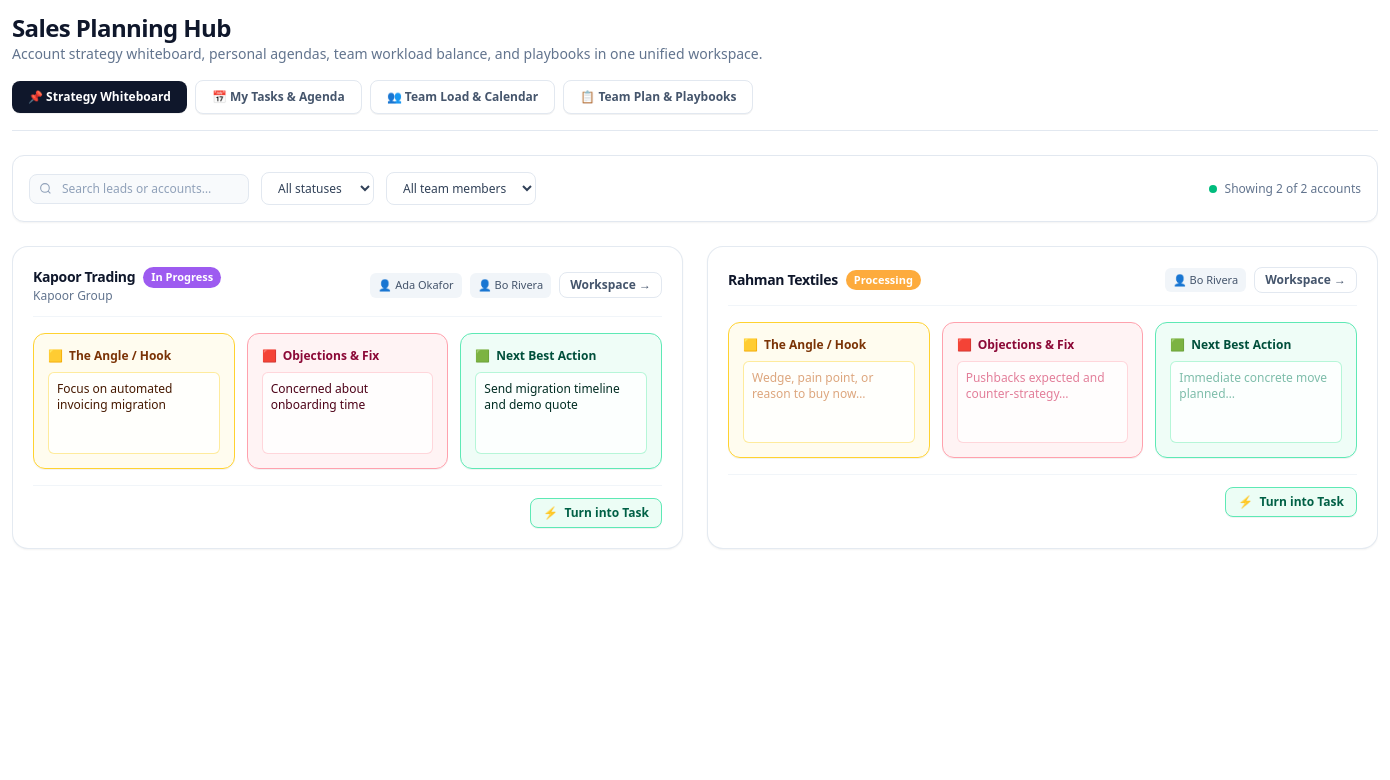
Test: TeamPlanningPage › switches to the activity heatmap and shows a rep’s row
The image size is (1390, 780).
Click the tab "👥 Team Load & Calendar" at (462, 97), box [370,80,555,114]
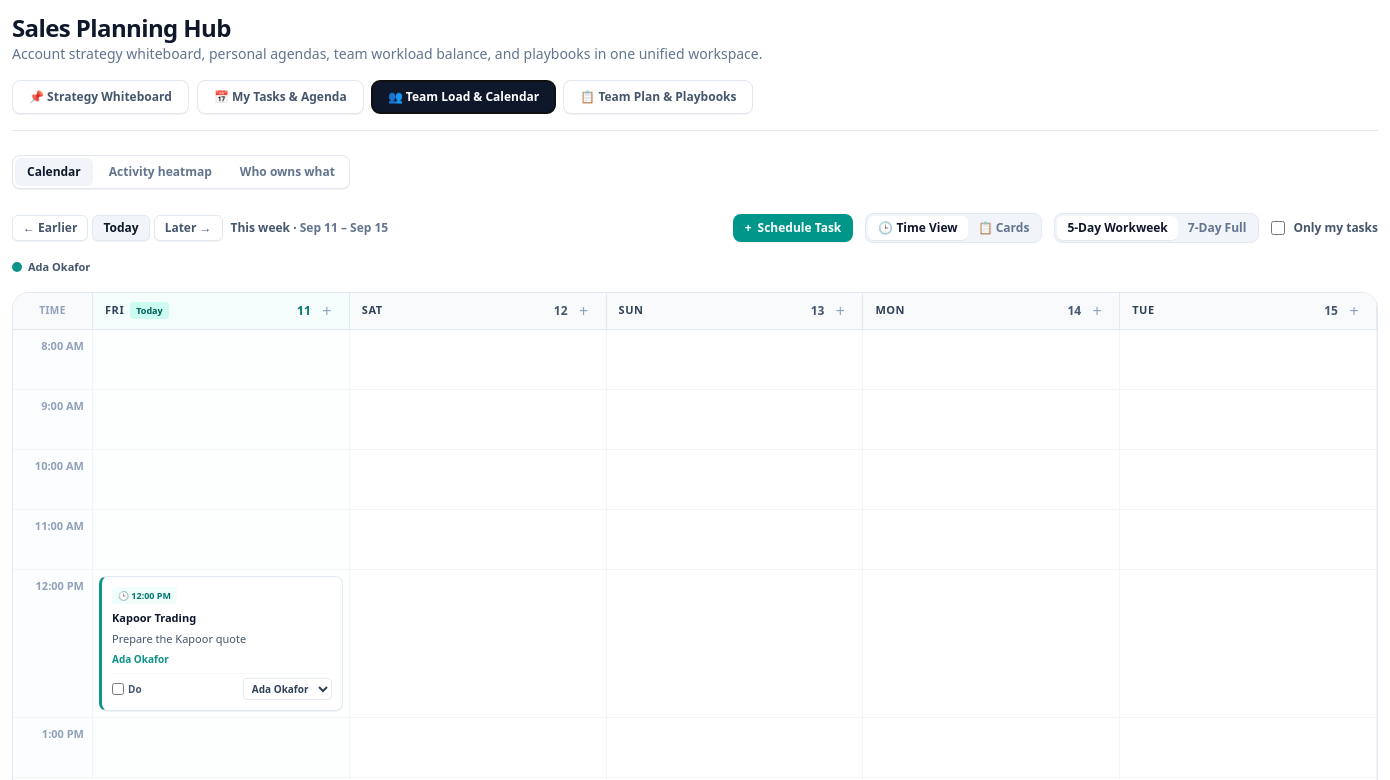
Click the tab "Activity heatmap" at (160, 172), box [97,158,224,186]
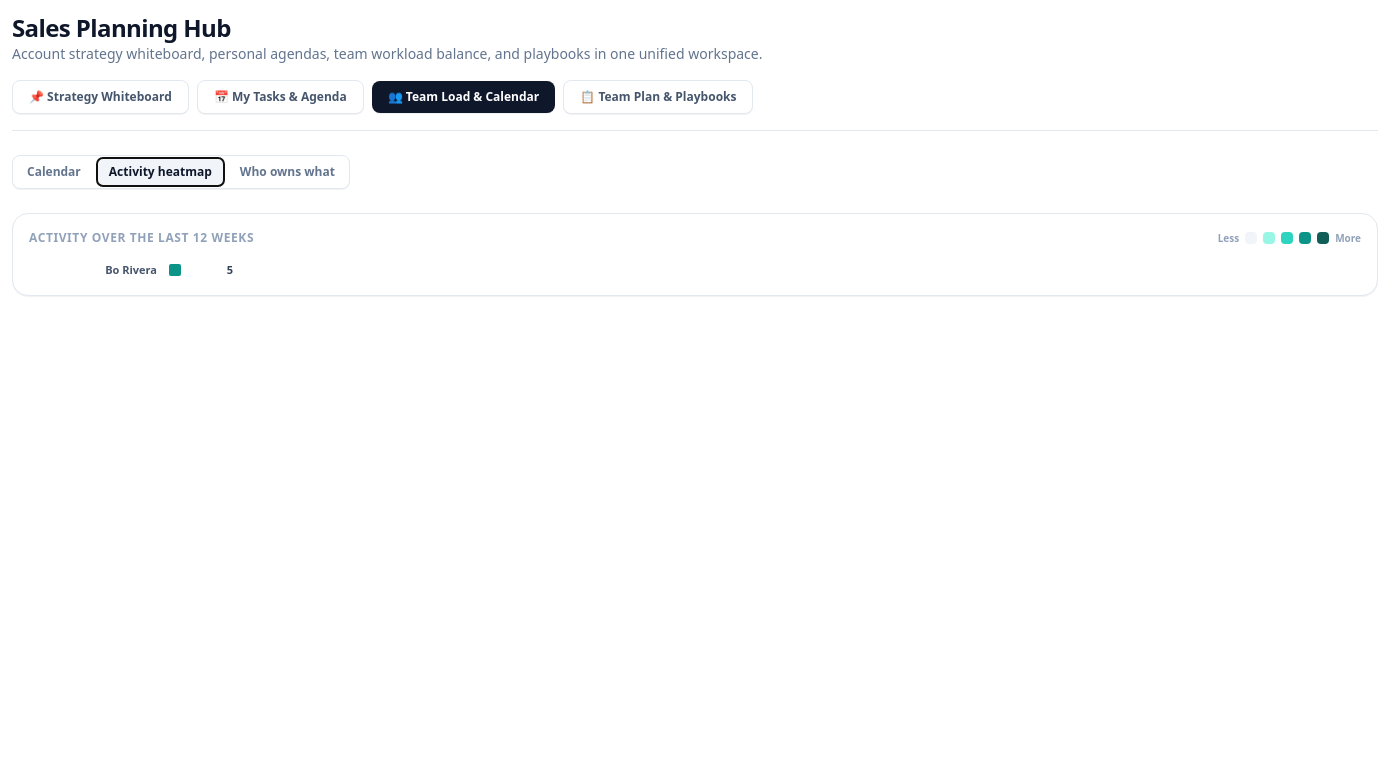
Expected: the text "5" is shown, [227,262,233,277]
Expected: the heading "Activity over the last 12 weeks" is shown, [29,230,254,246]
Expected: the text "Bo Rivera" is shown, [105,262,157,277]
